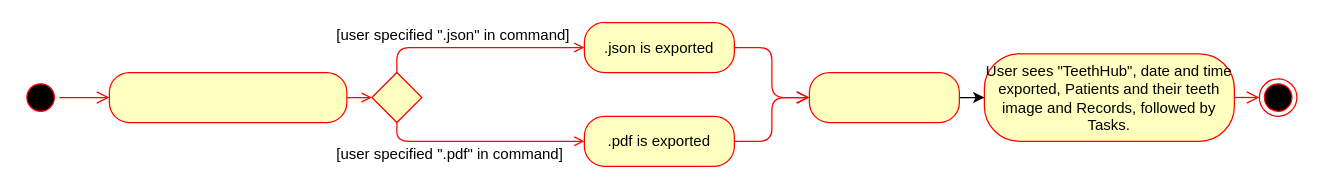
Image size: 1319x188. Some labels were removed from this diagram. Here are the shapes that lost their labels. From the top down, the centre of each, then its label:
(x=227, y=96): User enters "export" command
(x=883, y=96): User opens file
